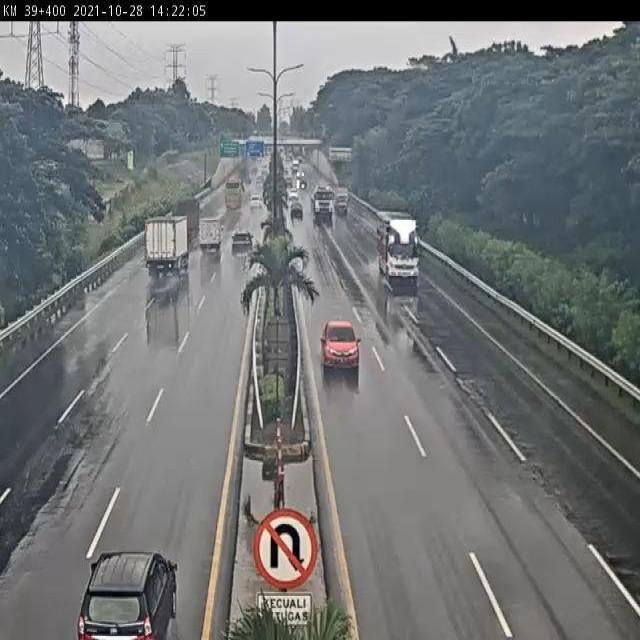big bus: (223, 178, 248, 214)
car: (318, 318, 362, 374), (230, 227, 253, 257), (289, 201, 305, 219)
truck-l-: (373, 208, 420, 284), (143, 212, 189, 276), (167, 202, 199, 250)
truck-s-: (197, 217, 223, 255)
truck-xl-: (310, 183, 335, 220)
